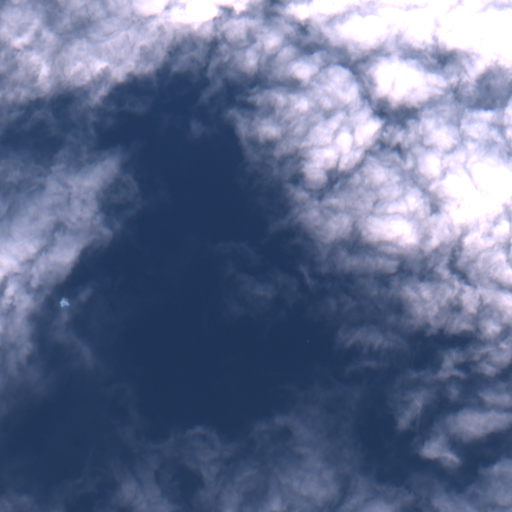Iceberg: (60, 297, 69, 306)
